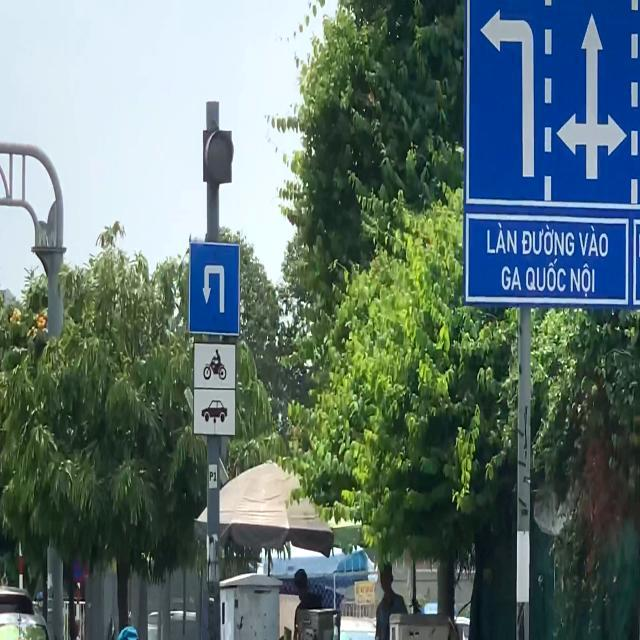Cho quay xe: (187, 240, 242, 333)
